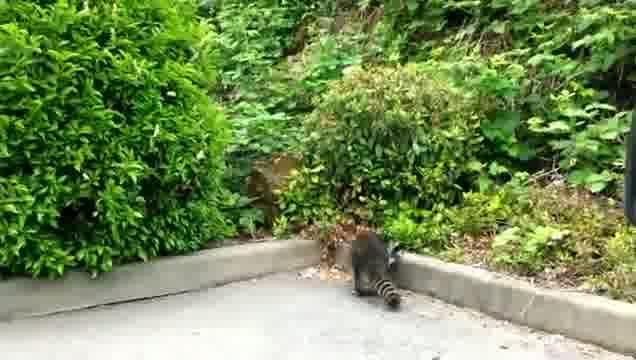raccoon: (349, 229, 405, 310)
